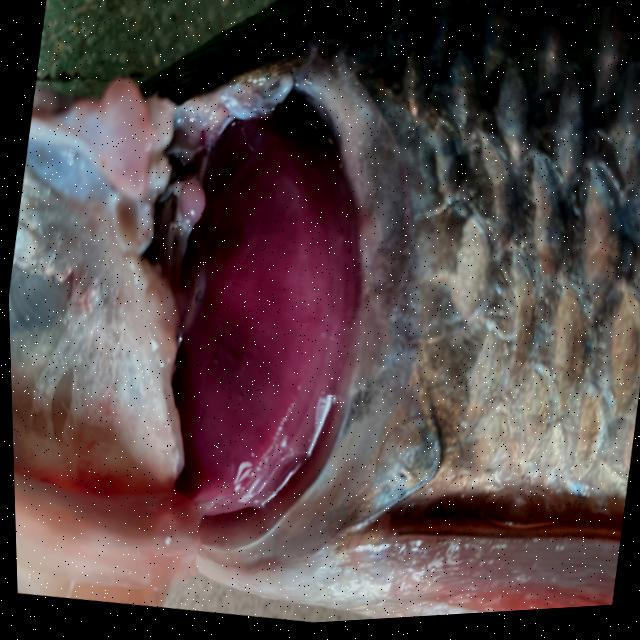Fresh: (117, 98, 407, 615)
